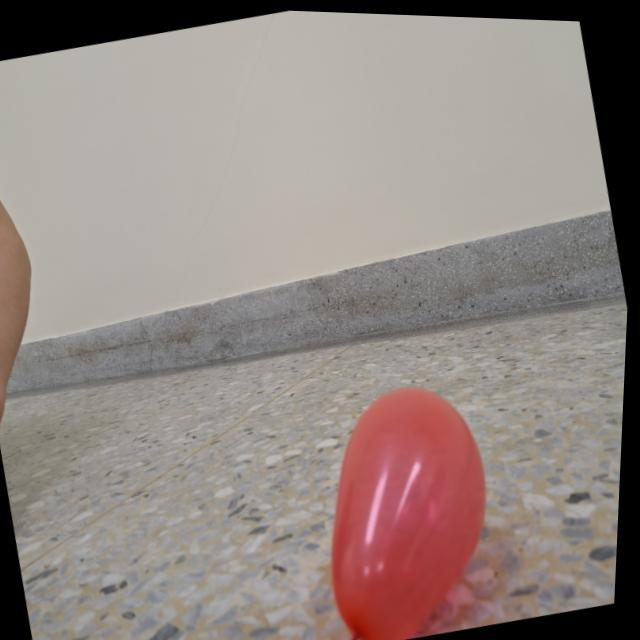red: (290, 364, 524, 640)
